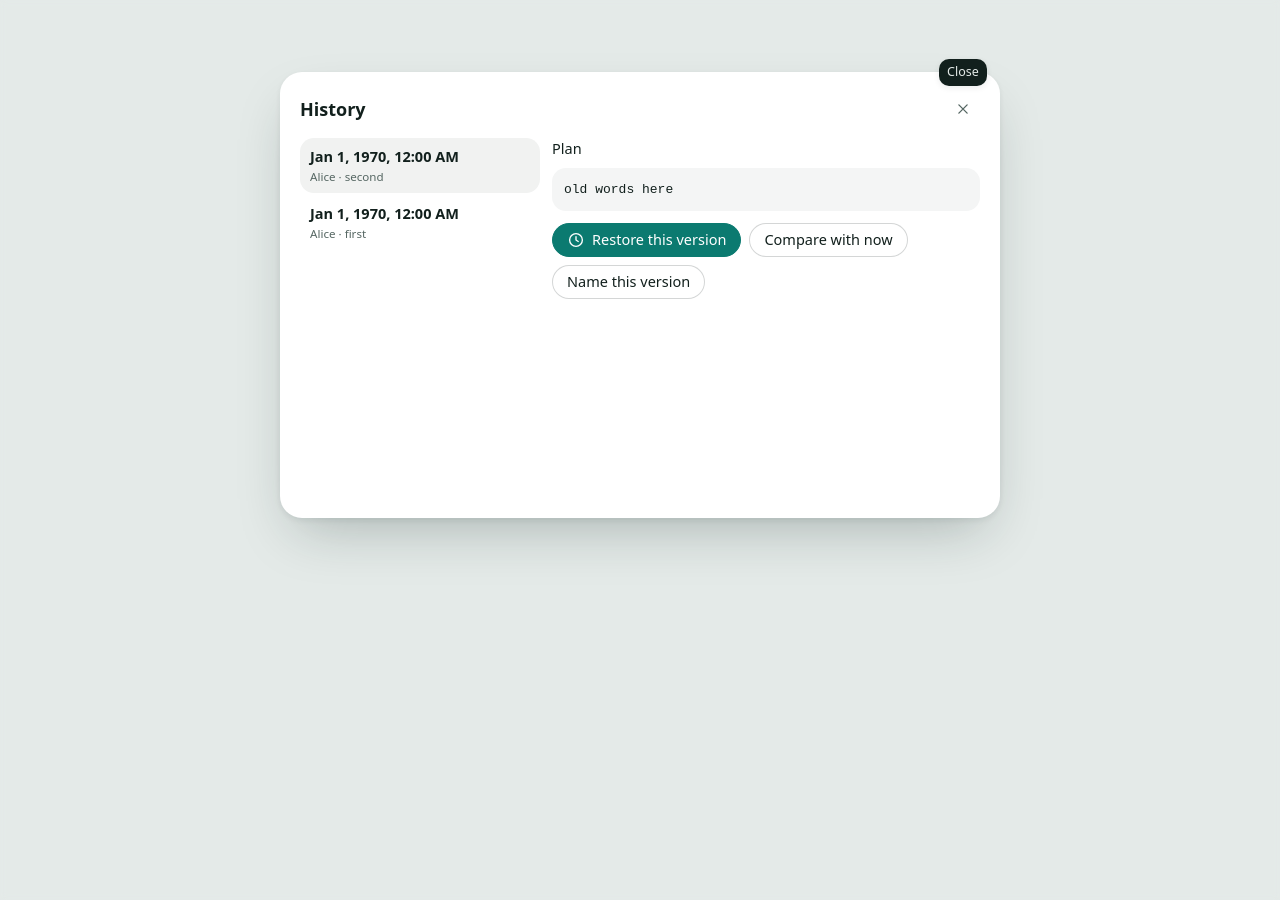
the page history window (ADR 0093) › compares a version with the page as it is now
Click the button "Compare with now".
click(828, 240)  # box [749,223,908,257]
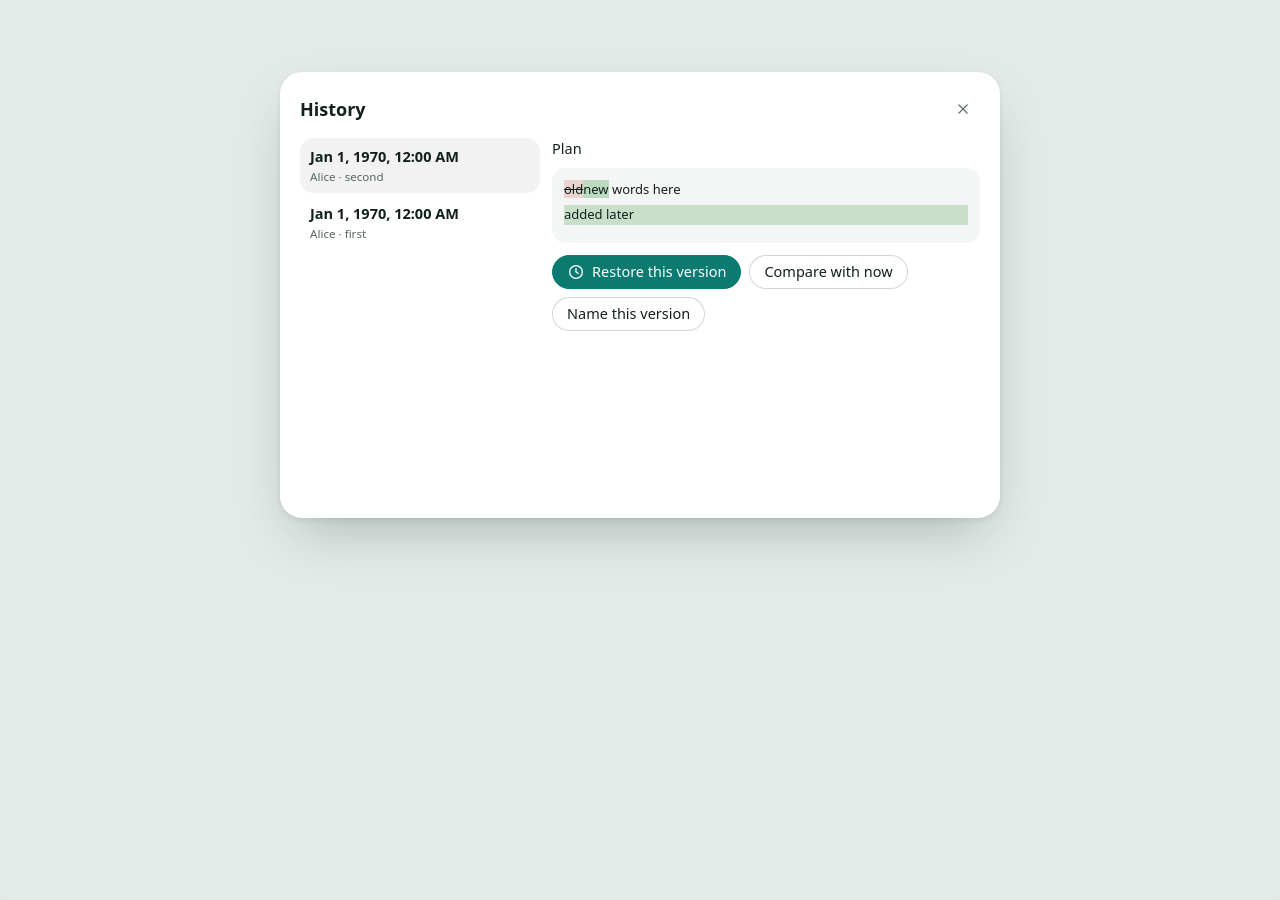
Expected: the text "old" is shown, [564,180,583,198]
Expected: the text "added later" is shown, [564,205,968,225]
Expected: the text "new" is shown, [583,180,608,198]
